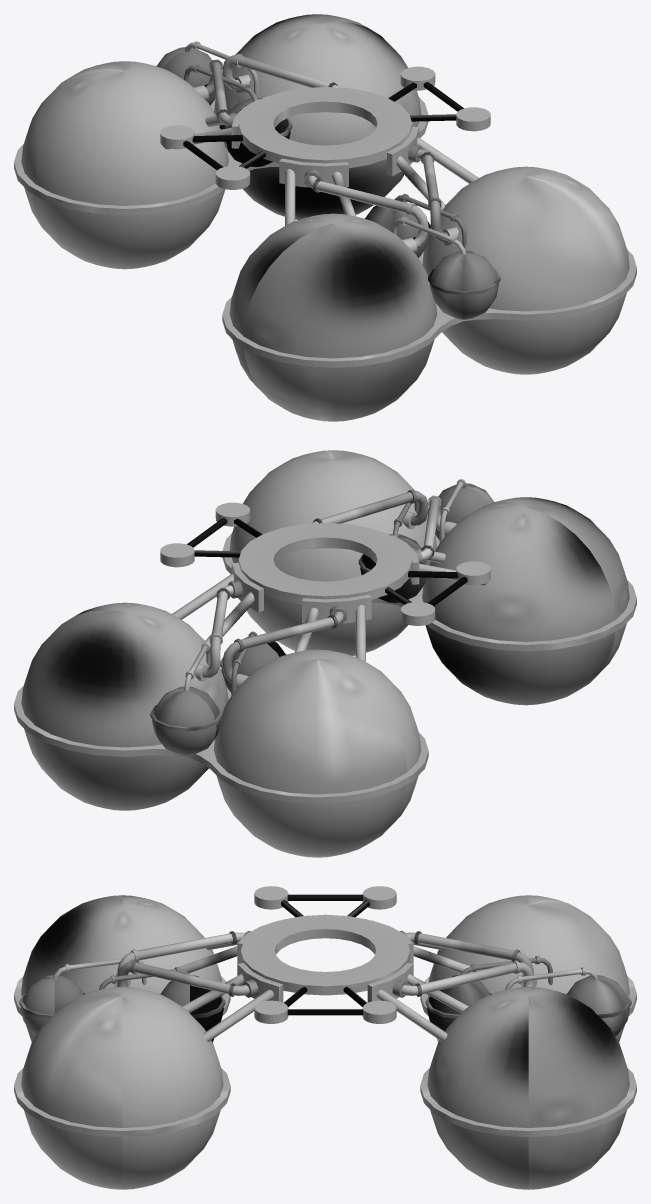
File: fuel_tank.fbx
3 views of the same model, one above another, from view 1: azimuth 30°, elevation 25°; view 2: azimuth 150°, elevation 25°; view 3: azimuth 270°, elevation 25° (orthographic). The views are drawn at different scales.
Visible parts, largest first — view 1: mesh; view 2: mesh; view 3: mesh.
Boxes of the visible parts, x1,y1,x2,y2 form: mesh: [14, 14, 636, 421]; mesh: [14, 450, 636, 857]; mesh: [14, 886, 636, 1189].
Size of the model in its own units: 1.6 by 0.75 by 2.3.
